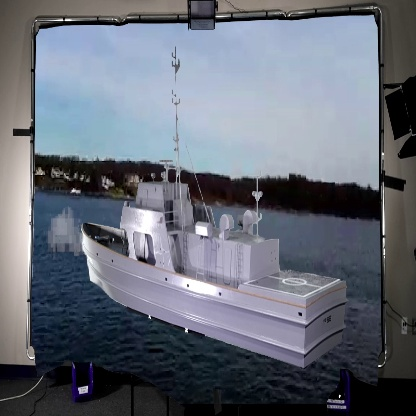YP689: (79, 49, 348, 369)
